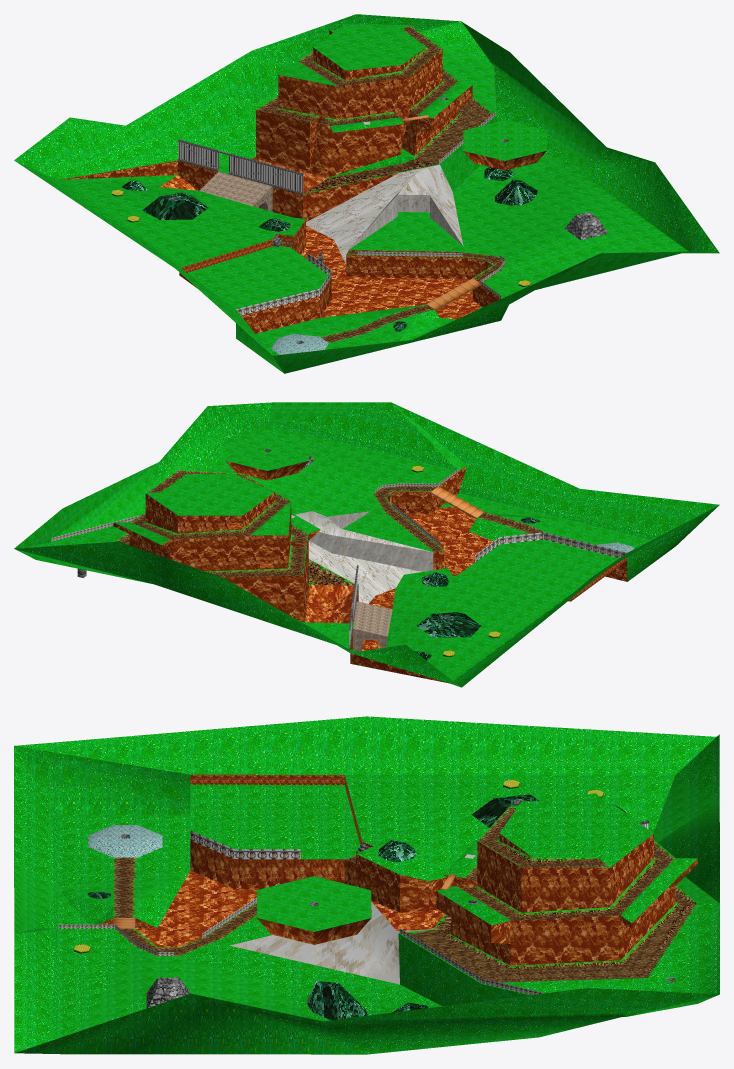
3 renders of one model, top to bottom at view 1: azimuth 30°, elevation 25°; view 2: azimuth 150°, elevation 25°; view 3: azimuth 270°, elevation 25°, orthographic. The views are drawn at different scales.
Visible parts, largest first — view 1: bobomb battlefeild_obj_cleaner_materialmerger_gles; view 2: bobomb battlefeild_obj_cleaner_materialmerger_gles; view 3: bobomb battlefeild_obj_cleaner_materialmerger_gles.
Part boxes in pixels (<box>): bobomb battlefeild_obj_cleaner_materialmerger_gles: <box>14,14,719,373</box>; bobomb battlefeild_obj_cleaner_materialmerger_gles: <box>14,402,719,687</box>; bobomb battlefeild_obj_cleaner_materialmerger_gles: <box>14,716,719,1054</box>.
Size of the model in its own units: 81.96 by 23.35 by 81.98.
Materials: 23 (23 with a texture image).
